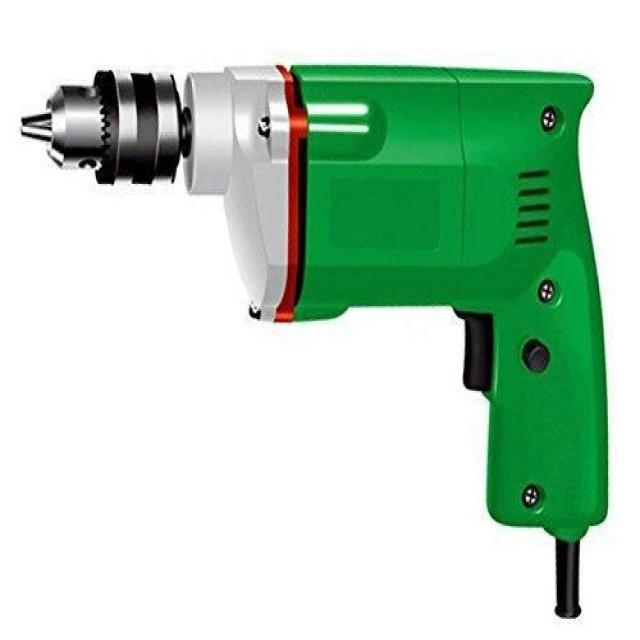drill: (18, 62, 610, 620)
